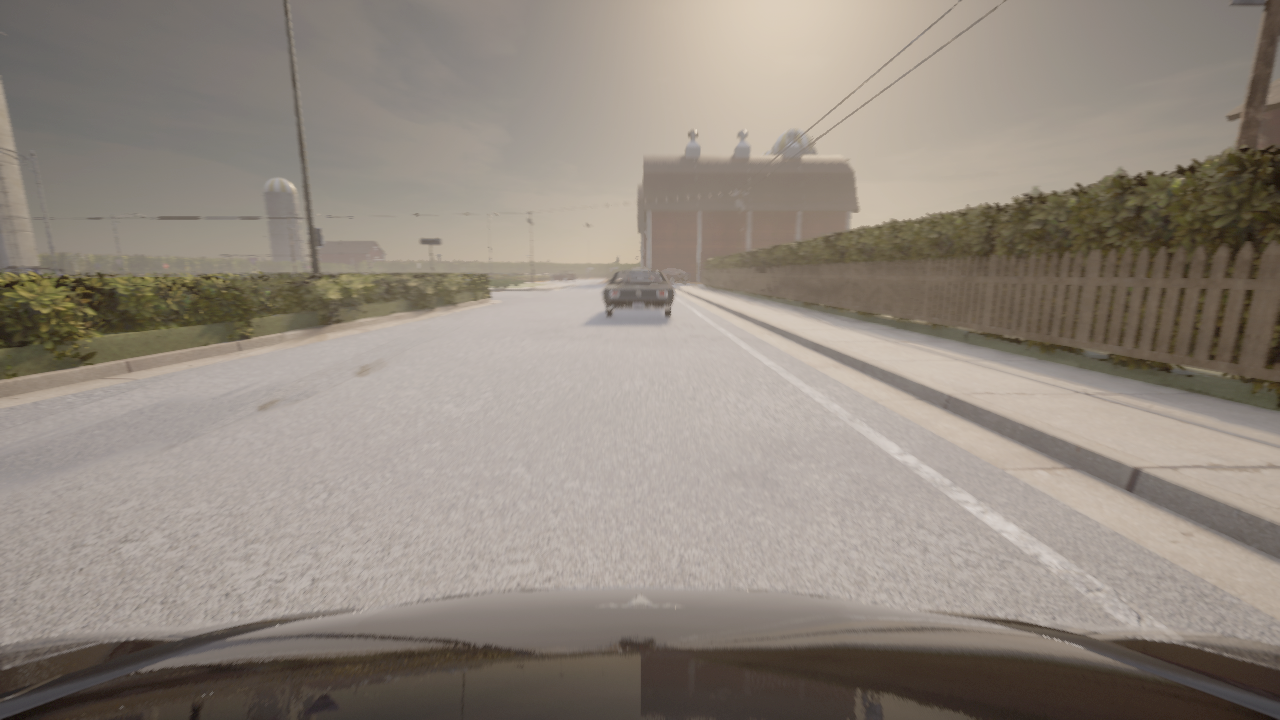cyclist: (0, 588, 1279, 719), (602, 270, 674, 317), (0, 267, 67, 275), (662, 269, 689, 283), (550, 270, 576, 282), (632, 268, 648, 269)
